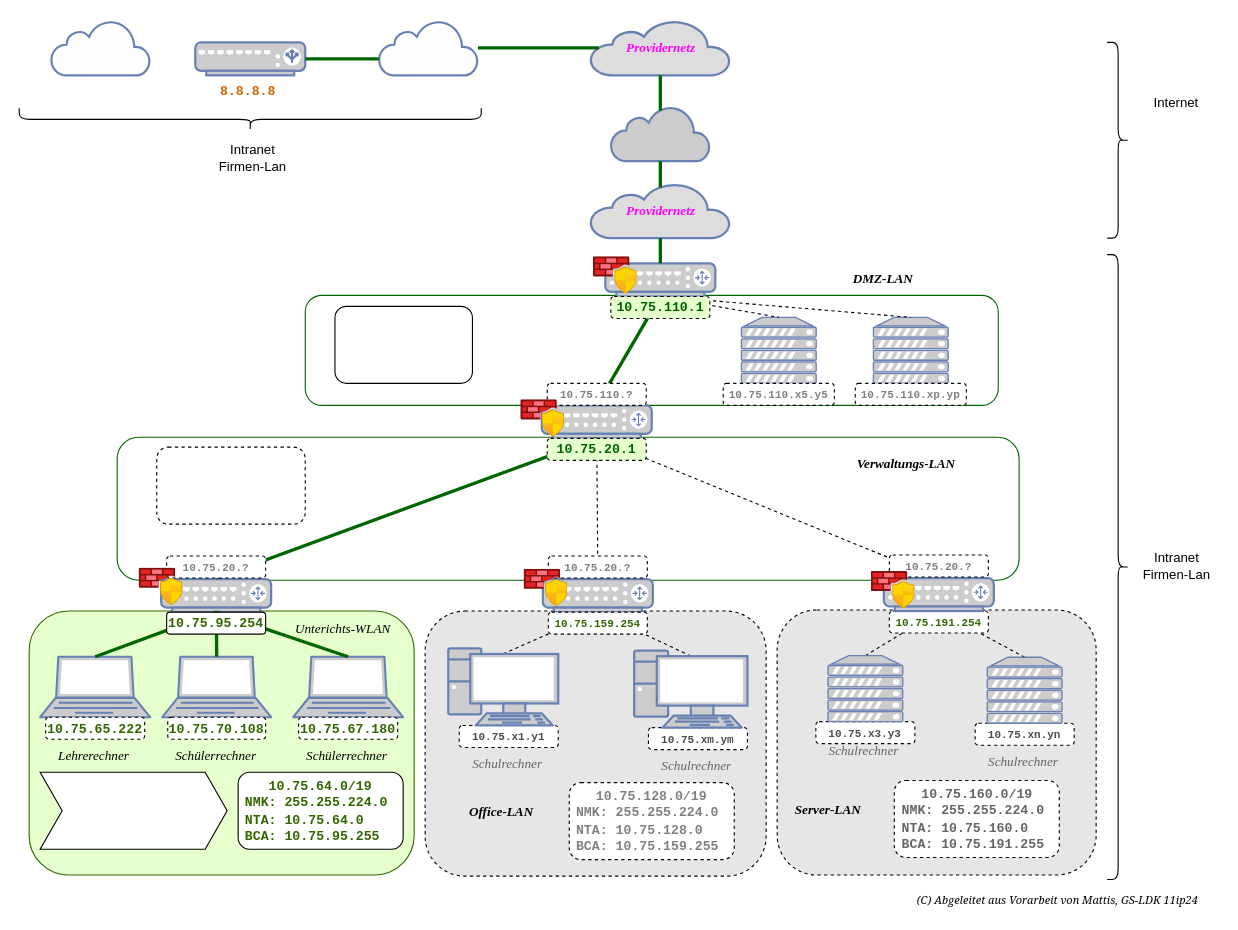
Image size: 1238x930. Some labels were removed from this diagram. The shapes that lost their labels are listed below. From the top down, each one's box as (x1, y1, x2, y2) in pixels, then its label:
(50, 19, 151, 76): in GOOGLE
(377, 19, 479, 76): before GOOGLE
(609, 105, 710, 162): IANA-Netz
(334, 305, 472, 383): 10.75.110.0/24 NMK: 255.255.255.0 NTA: 10.75.110.0 BCA: 10.75.110.255
(156, 446, 305, 524): 10.75.20.0/24 NMK: 255.255.255.0 NTA: 10.75.20.0 BCA: 10.75.20.255
(39, 771, 227, 849): > ipconfig ... > netsh ... > tracert 8.8.8.8
